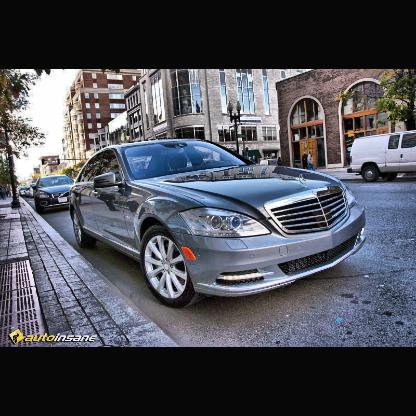Mercedes-Benz S-Class Sedan 2012: (69, 138, 370, 305)
